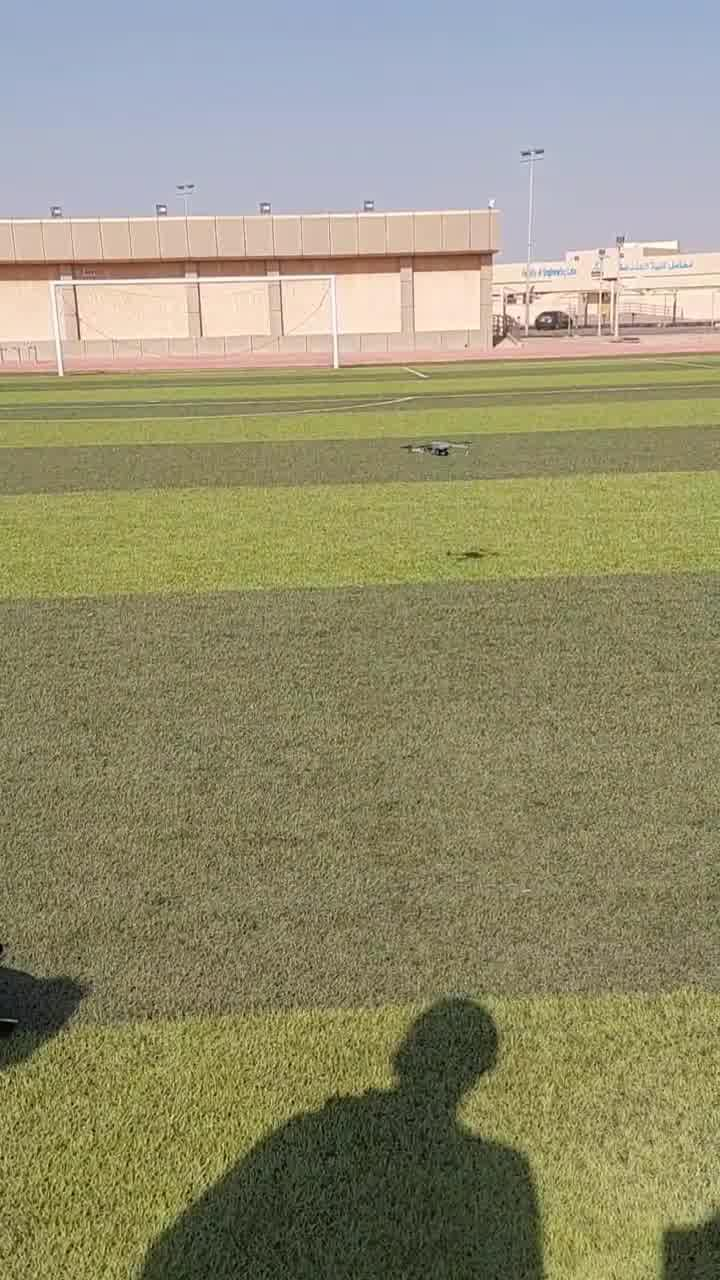drone: (389, 422, 465, 463)
